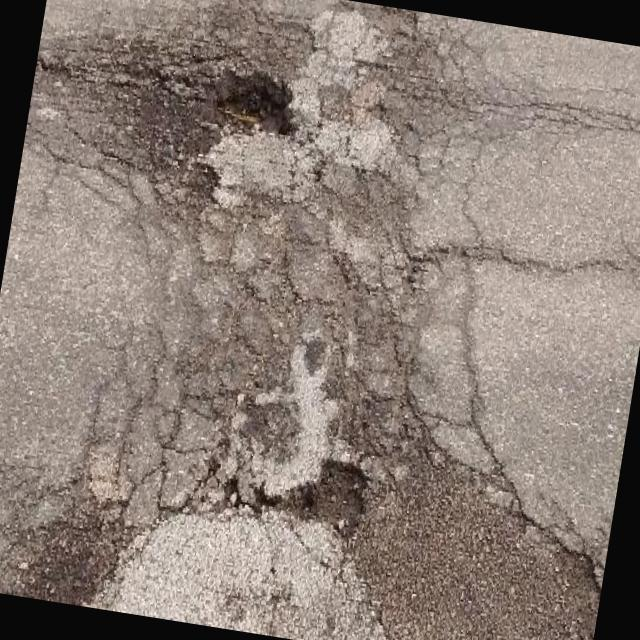Lubang: (286, 458, 367, 539), (217, 69, 293, 131)
